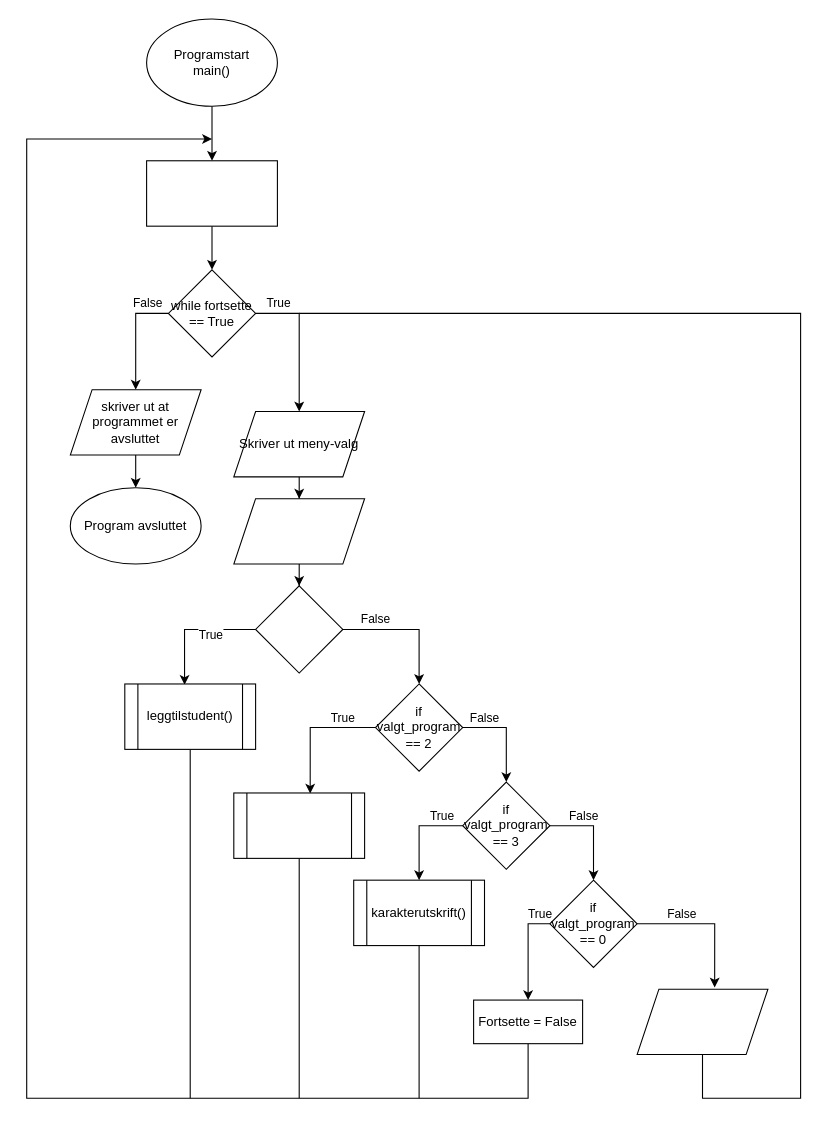
Some shapes in this 821 by 1126 pixel diagram are drawn without their labels. Here are the shapes that lost their labels. From the top down, the centre of each, then its label:
At (x=211, y=193): "fortsette = True".
At (x=299, y=531): "Spør bruker om input (valgt_program)".
At (x=299, y=629): "if valgt_program == 1".
At (x=299, y=825): "slettstudent()".
At (x=702, y=1021): "Skriver ut at bruker må bruke gyldige tallverdier (1,2,3 og 0)".
